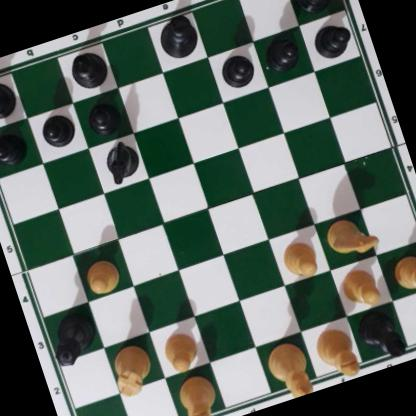black-bishop: (354, 305, 410, 368), (63, 46, 113, 94)
black-king: (153, 10, 206, 64)
black-knight: (98, 138, 146, 188)
black-pawn: (309, 17, 354, 63), (82, 95, 123, 138), (217, 49, 258, 91), (37, 110, 77, 152), (262, 32, 302, 73), (0, 126, 29, 168)
black-queen: (44, 307, 102, 370)
black-rook: (0, 72, 20, 127), (289, 0, 346, 16)
white-bishop: (310, 324, 361, 383), (173, 369, 225, 416)
white-king: (262, 338, 316, 403)
white-knight: (319, 207, 383, 265)
white-pawn: (335, 262, 384, 312), (78, 253, 126, 299), (158, 326, 203, 375), (277, 236, 321, 282), (389, 250, 416, 296)
white-rook: (105, 338, 159, 400)
